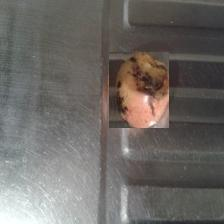Mango Rotten: (109, 52, 169, 128)
